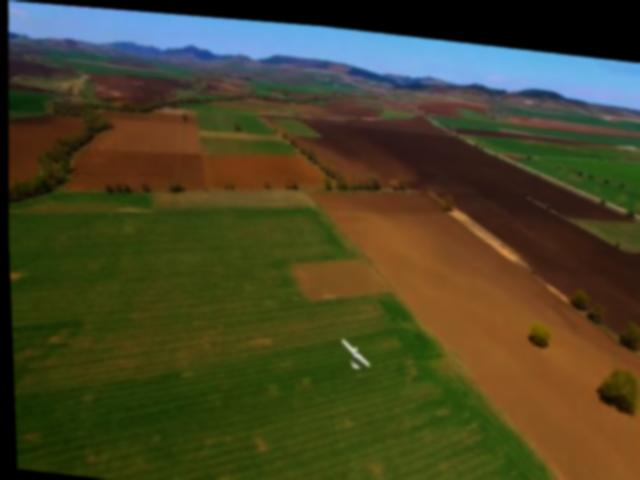uav: (334, 324, 371, 373)
